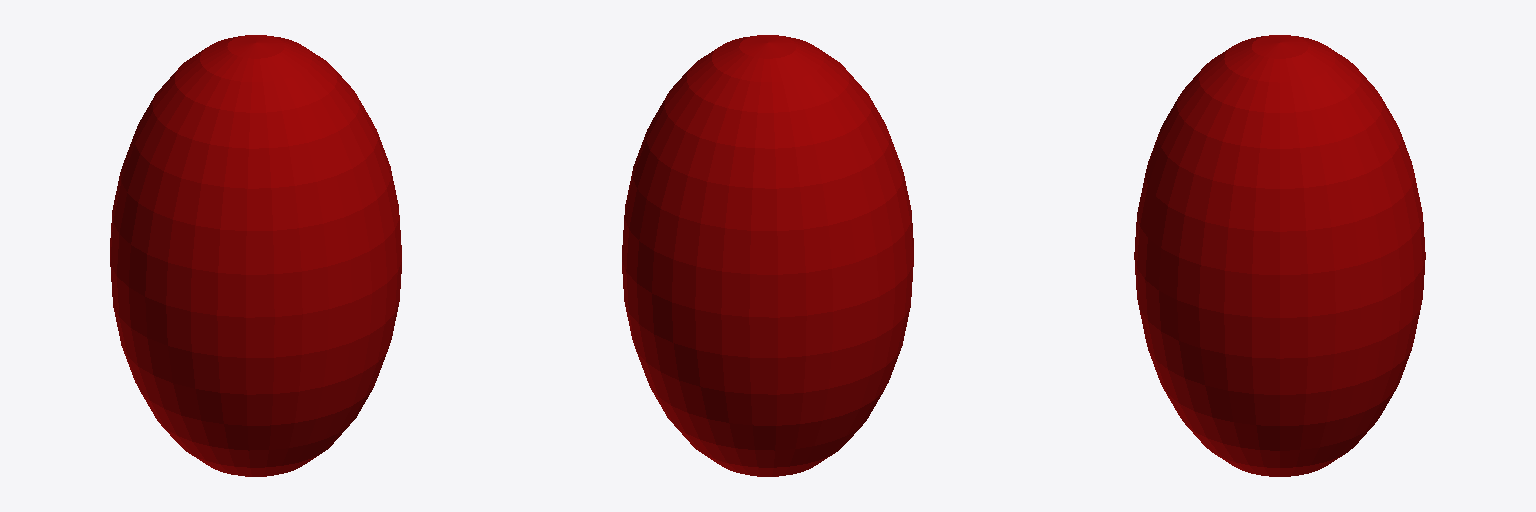
File: moya_freg_r.obj
3 renders of one model, left to right at view 1: azimuth 30°, elevation 25°; view 2: azimuth 150°, elevation 25°; view 3: azimuth 270°, elevation 25°, orthographic.
Parts seen in each view (by area): view 1: Sphere_Sphere.005_Sphere_Sphere.006; view 2: Sphere_Sphere.005_Sphere_Sphere.006; view 3: Sphere_Sphere.005_Sphere_Sphere.006.
Part boxes in pixels (x1,y1,x2,y2): Sphere_Sphere.005_Sphere_Sphere.006: (110,35,401,476); Sphere_Sphere.005_Sphere_Sphere.006: (622,35,913,476); Sphere_Sphere.005_Sphere_Sphere.006: (1134,35,1425,476).
Bounding box in the file's own units: 0.6891 × 1.1 × 0.6826.